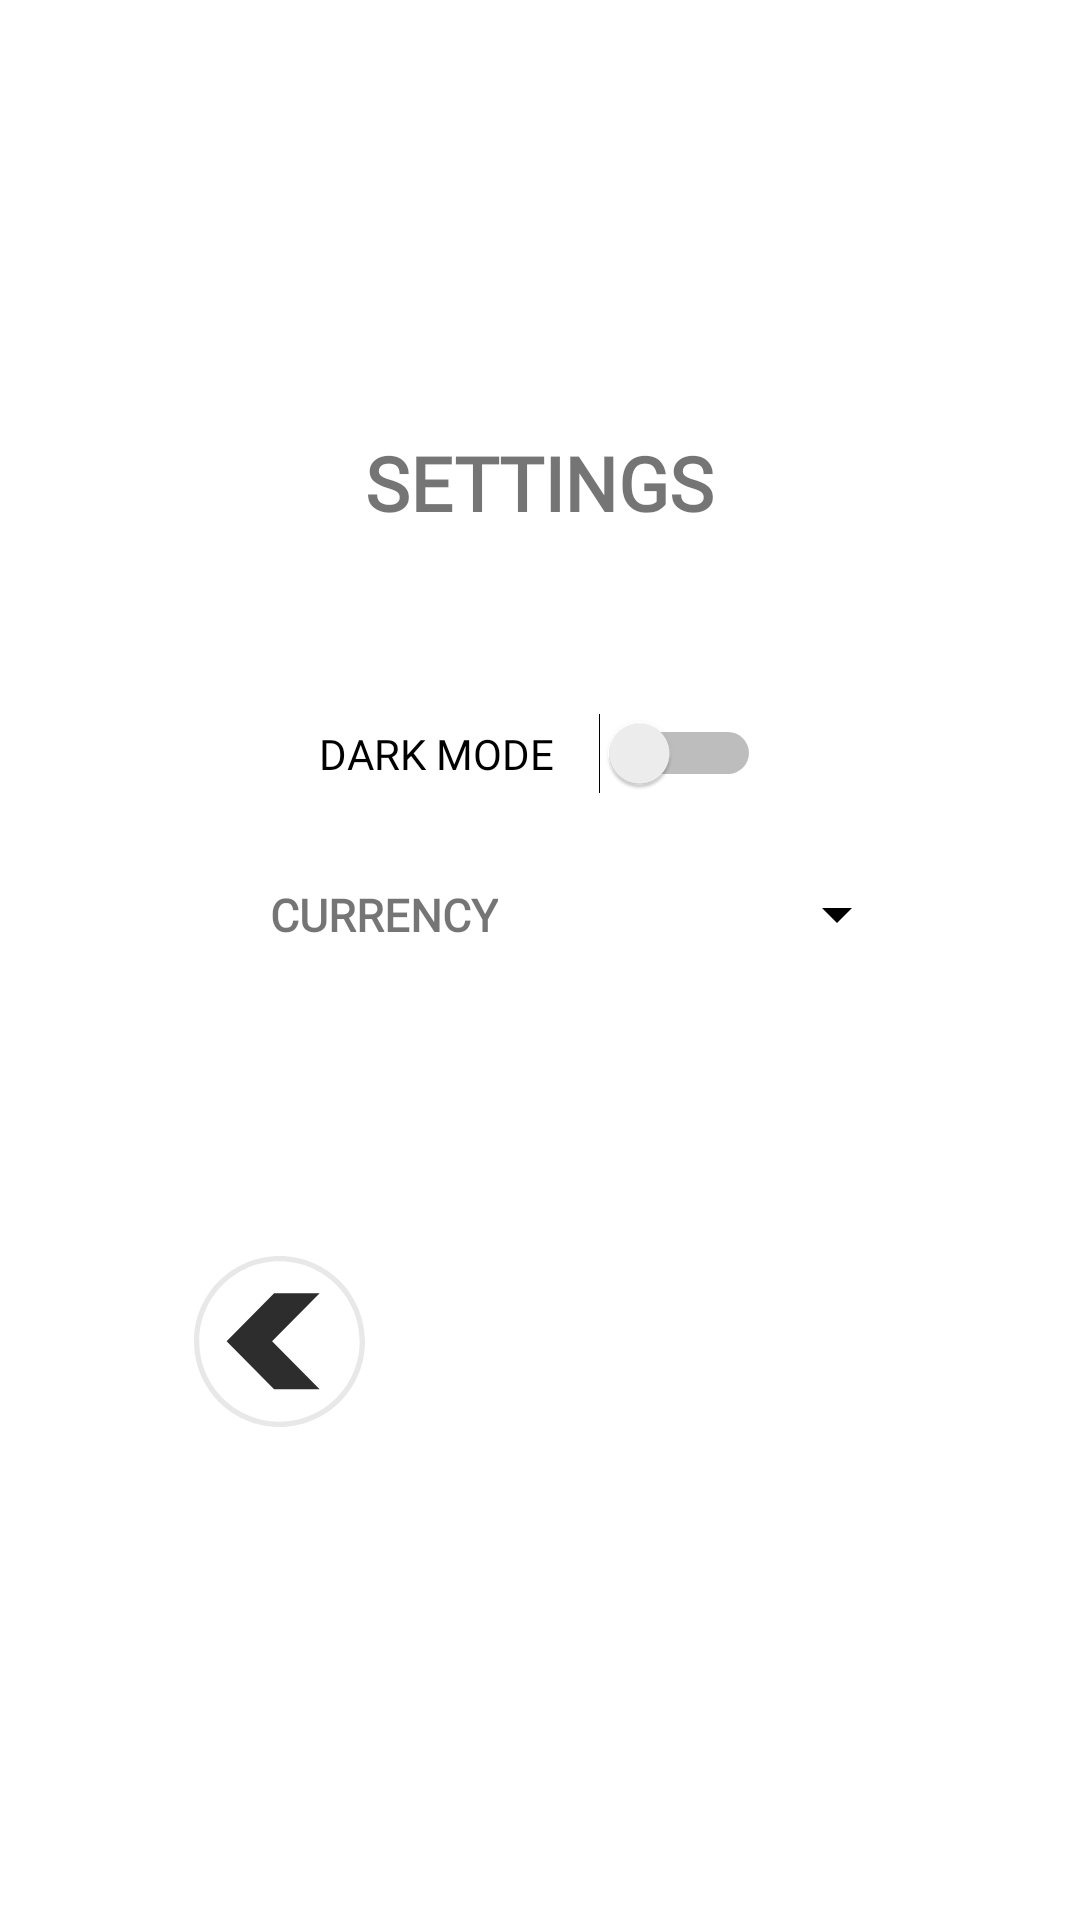

Icons on this 1080 × 1920 Android screen, each with its box as (x1, y1, x2, y2):
back: (226, 1293, 320, 1390)
